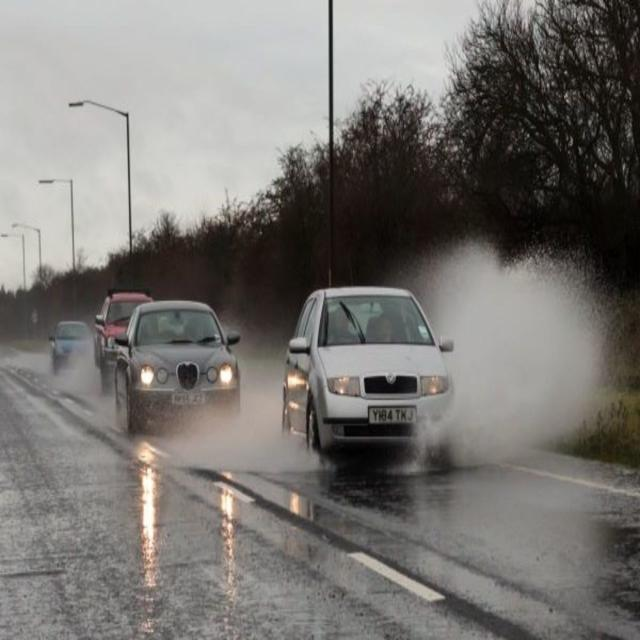car: (282, 284, 456, 464), (111, 299, 242, 443), (94, 289, 128, 395), (49, 321, 89, 373)
